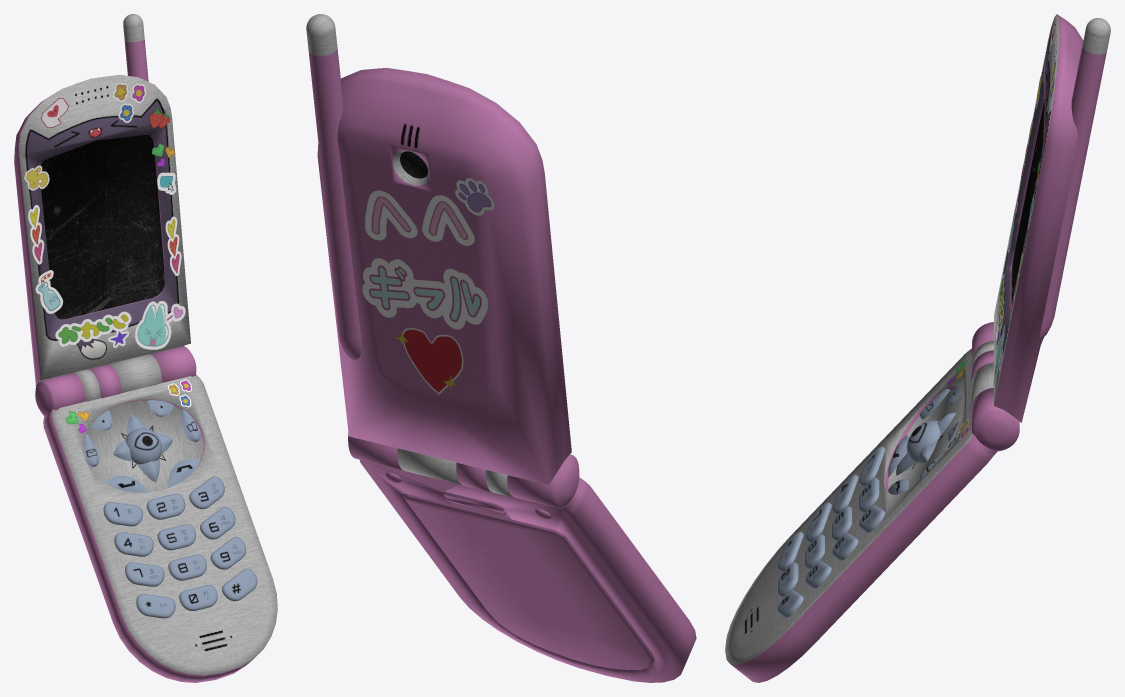
File: cuteFlipPhone_2.fbx
The picture shows the model from 3 angles, left to right: view 1: azimuth 30°, elevation 25°; view 2: azimuth 150°, elevation 25°; view 3: azimuth 270°, elevation 25°; orthographic projection. The views are drawn at different scales.
Parts seen in each view (by area): view 1: bottomPhone_low, antenna_low, Plane.012, Plane.011, Plane.005, Plane.013, Plane.010, Plane.009, Plane.004, Plane.014; view 2: antenna_low, bottomPhone_low, Plane, Plane.001, Plane.002, Plane.003; view 3: bottomPhone_low, antenna_low.
Part boxes in pixels (bbox=[...]): bottomPhone_low: bbox=[35, 346, 277, 682]; antenna_low: bbox=[14, 14, 190, 386]; Plane.012: bbox=[55, 311, 131, 348]; Plane.011: bbox=[135, 301, 185, 349]; Plane.005: bbox=[112, 82, 146, 122]; Plane.013: bbox=[35, 270, 63, 313]; Plane.010: bbox=[165, 216, 181, 275]; Plane.009: bbox=[28, 205, 44, 264]; Plane.004: bbox=[41, 98, 68, 127]; Plane.014: bbox=[24, 165, 49, 190]; antenna_low: bbox=[306, 14, 571, 484]; bottomPhone_low: bbox=[348, 433, 696, 682]; Plane: bbox=[362, 258, 488, 329]; Plane.001: bbox=[365, 190, 474, 245]; Plane.002: bbox=[394, 327, 463, 394]; Plane.003: bbox=[455, 177, 494, 215]; bottomPhone_low: bbox=[725, 322, 1019, 682]; antenna_low: bbox=[994, 14, 1110, 422].
Size of the model in its own units: 175 by 584 by 298.
